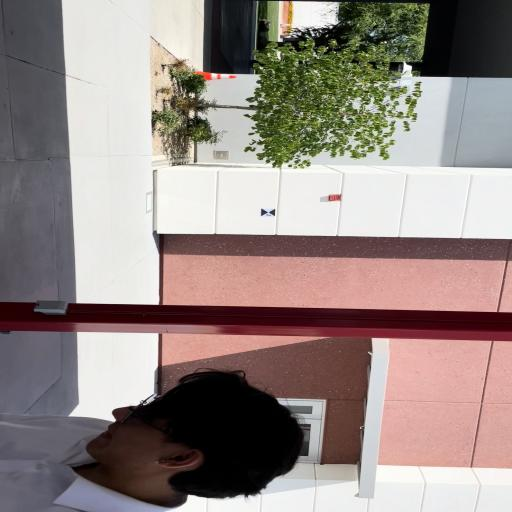target2: (261, 208, 276, 217)
